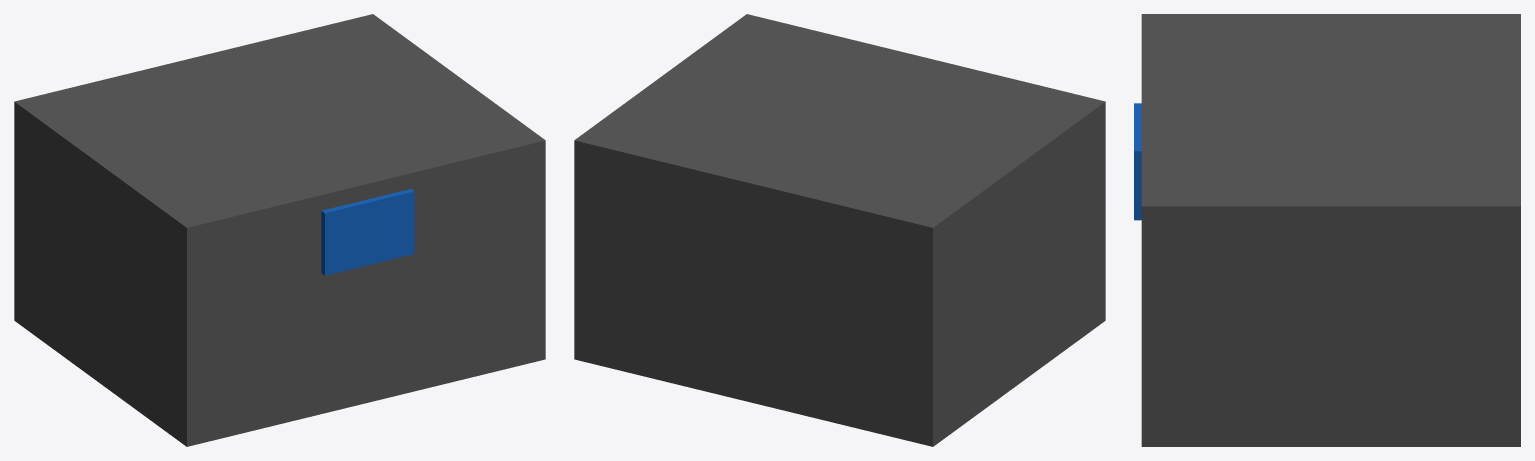
File: police_01.glb
3 views of the same model, side by side, from view 1: azimuth 30°, elevation 25°; view 2: azimuth 150°, elevation 25°; view 3: azimuth 270°, elevation 25° (orthographic). The views are drawn at different scales.
Bounding box in the file's own units: 24 × 14 × 20.4.
